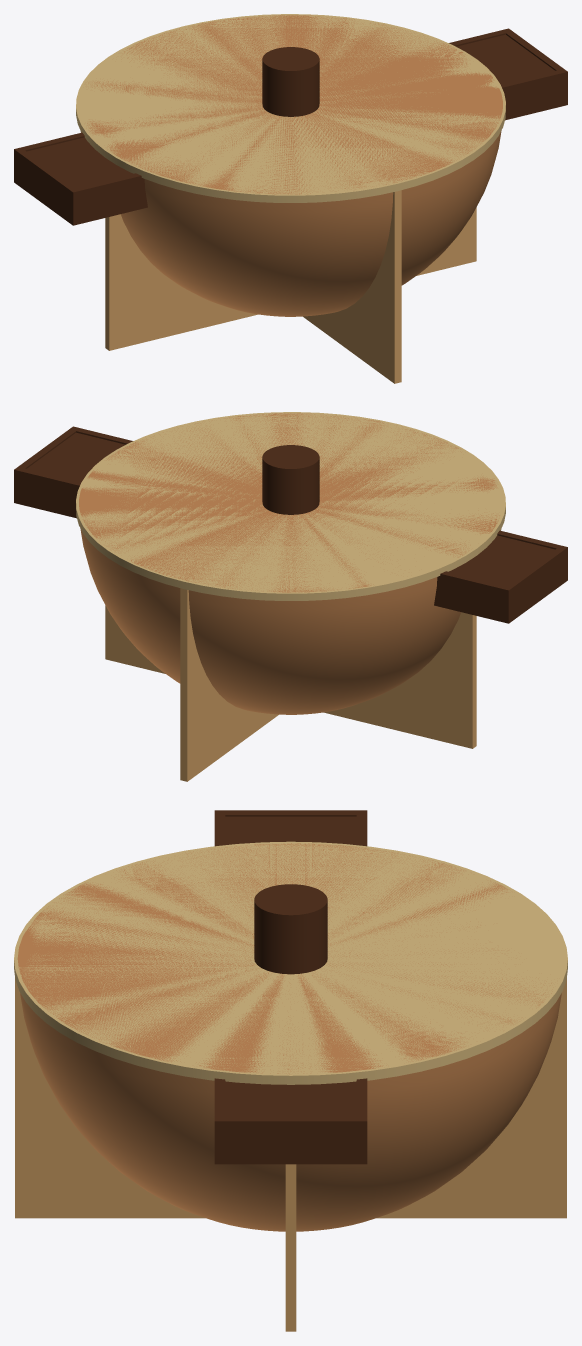
3 renders of one model, top to bottom at view 1: azimuth 30°, elevation 25°; view 2: azimuth 150°, elevation 25°; view 3: azimuth 270°, elevation 25°, orthographic. The views are drawn at different scales.
Parts seen in each view (by area): view 1: bowl; view 2: bowl; view 3: bowl.
Boxes of the visible parts, x1=… form: bowl: x1=14, y1=14, x2=567, y2=383; bowl: x1=14, y1=412, x2=567, y2=781; bowl: x1=14, y1=810, x2=567, y2=1331.
Size of the model in its own units: 0.14 by 0.0664 by 0.1054.
